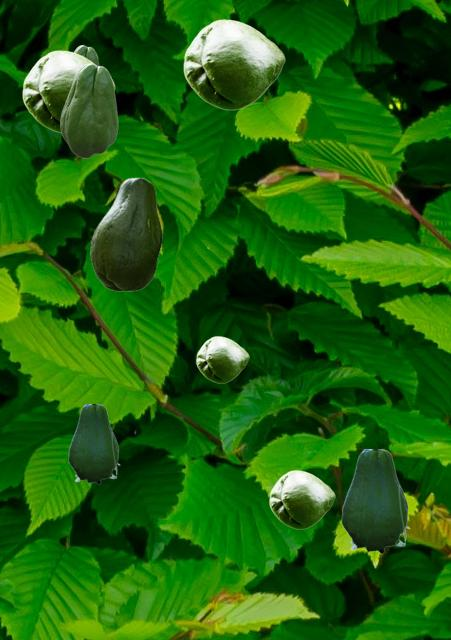sayote: (183, 19, 284, 109), (90, 177, 161, 290), (22, 50, 114, 132), (341, 449, 409, 555), (60, 63, 117, 157), (68, 404, 119, 485), (269, 470, 334, 528), (196, 336, 248, 382), (73, 45, 99, 64)
